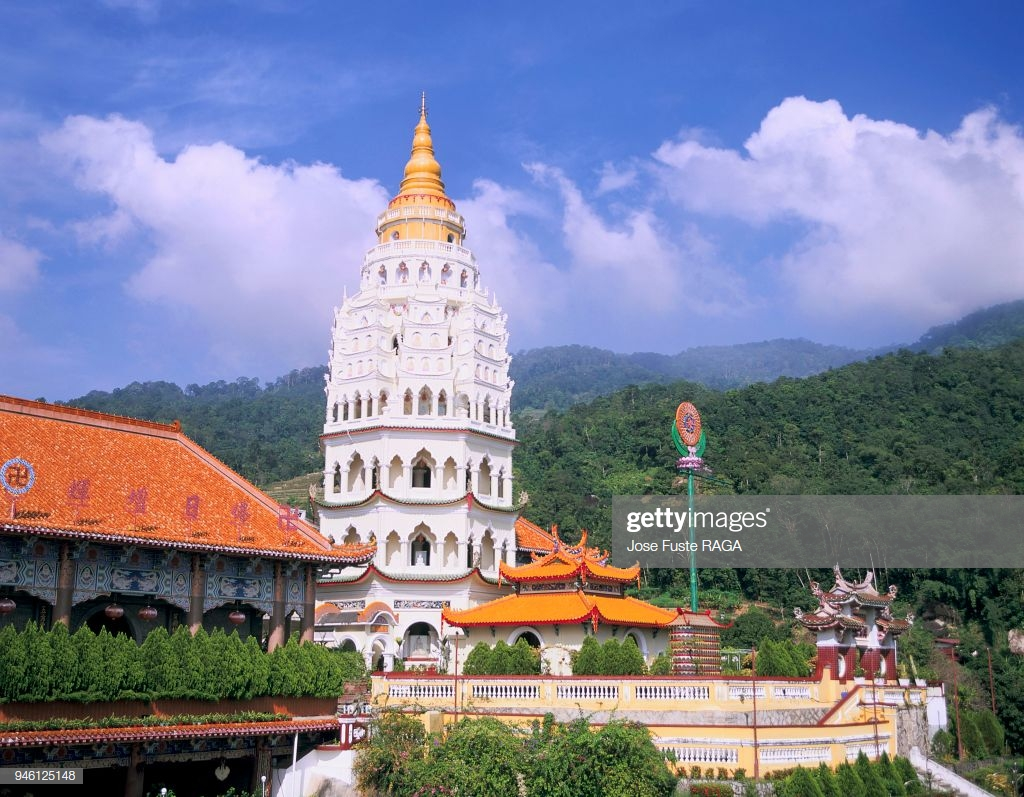Buddhist Temple: (302, 104, 514, 618)
